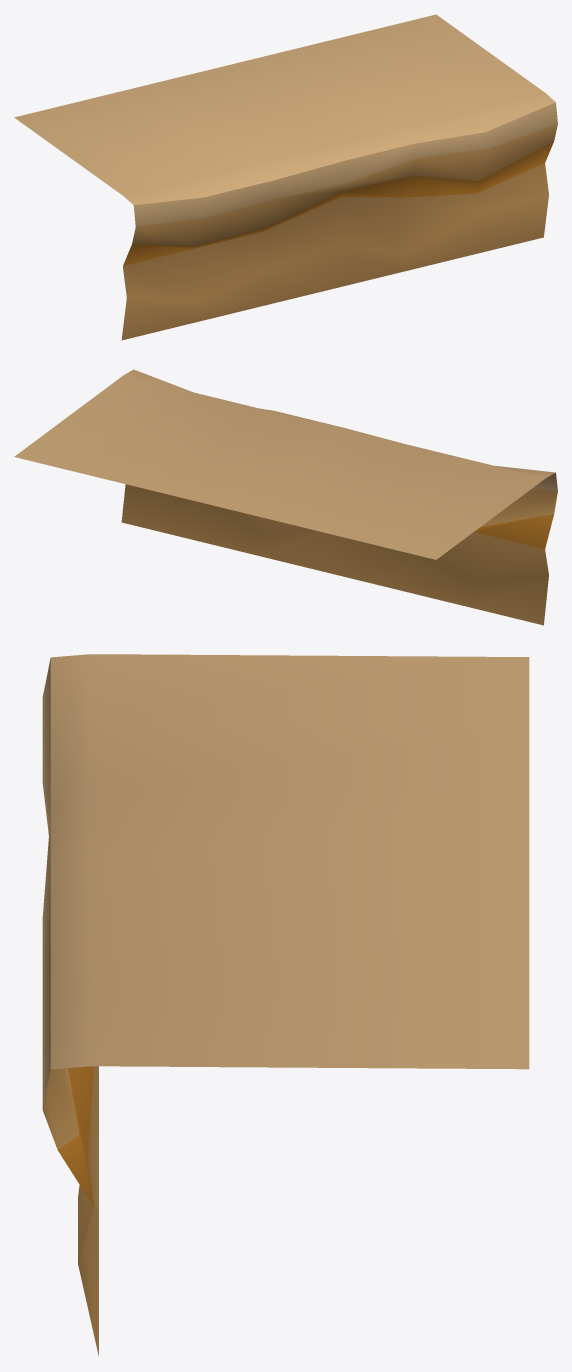
File: Wall.fbx
3 views of the same model, one above another, from view 1: azimuth 30°, elevation 25°; view 2: azimuth 150°, elevation 25°; view 3: azimuth 270°, elevation 25° (orthographic). The views are drawn at different scales.
Visible parts, largest first — view 1: Wall; view 2: Wall; view 3: Wall.
Boxes of the visible parts, x1,y1,x2,y2 form: Wall: (14, 14, 557, 340); Wall: (14, 369, 557, 625); Wall: (42, 654, 529, 1356).
Size of the model in its own units: 1200 by 396 by 599.
